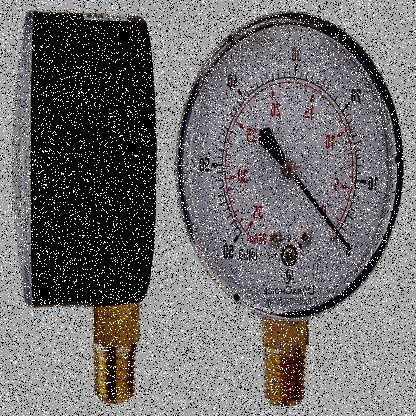needle: (291, 173, 351, 252)
